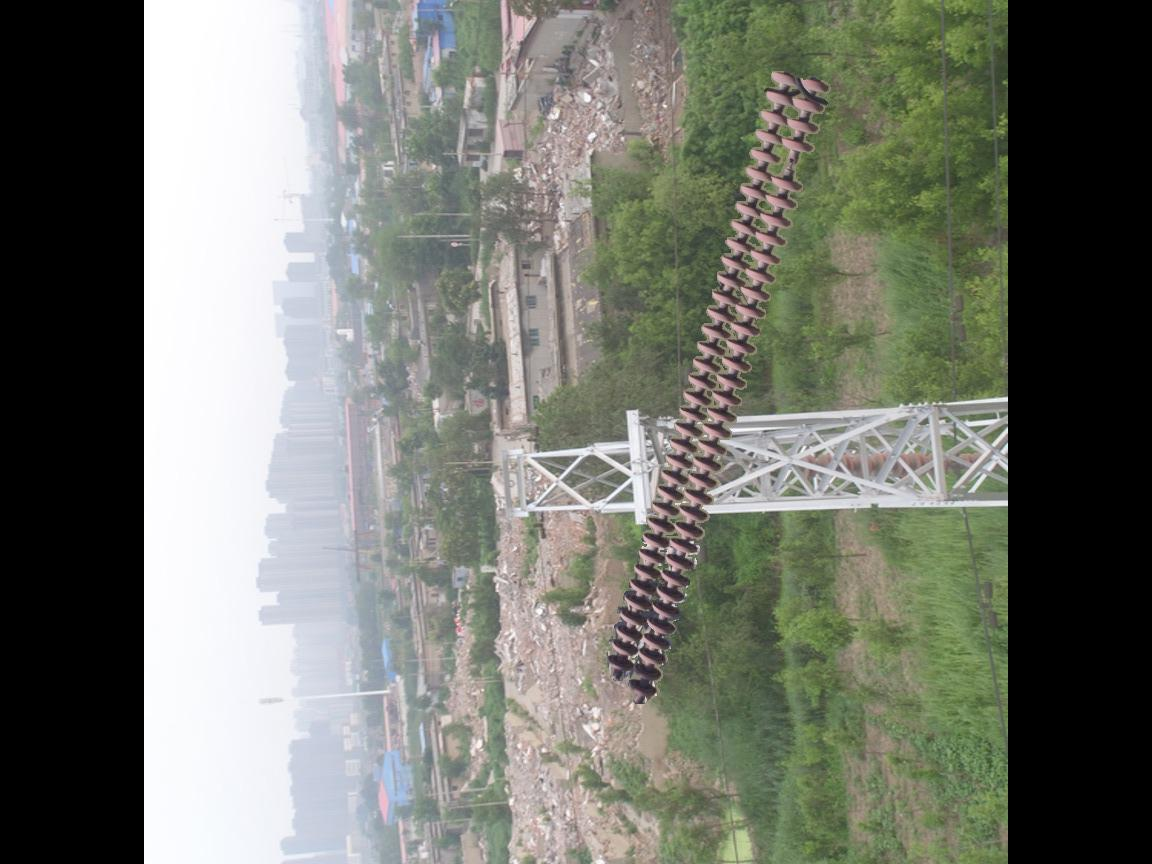insulator: (603, 66, 837, 705), (806, 439, 989, 495)
insulator_stringdrop: (769, 134, 816, 196)
